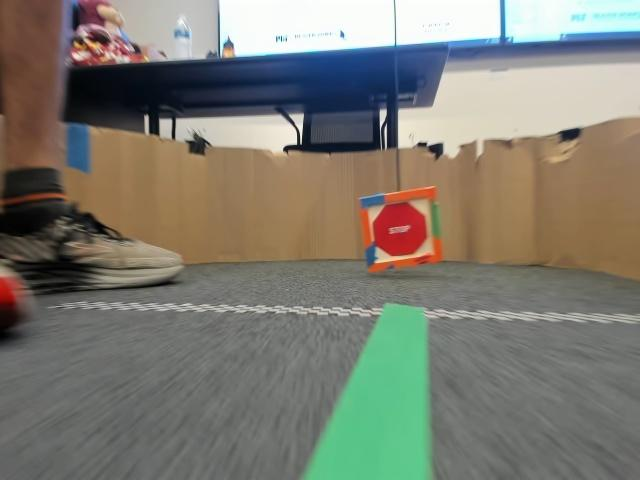Stop: (369, 207, 423, 258)
